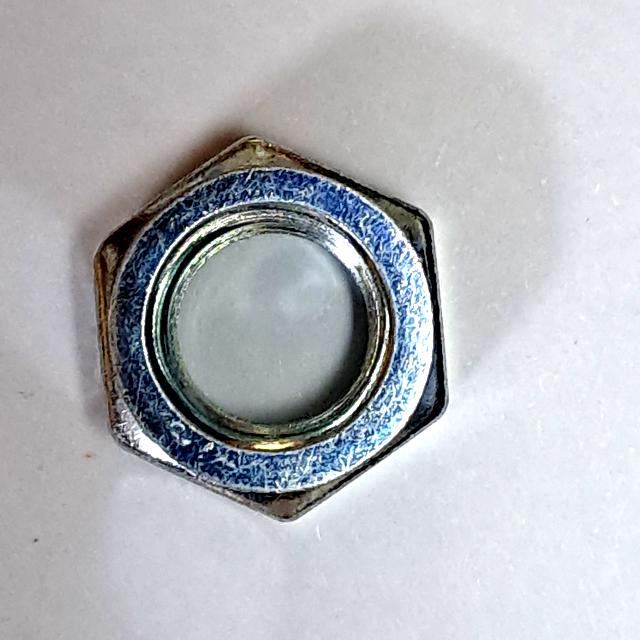Excellent: (85, 117, 466, 534)
